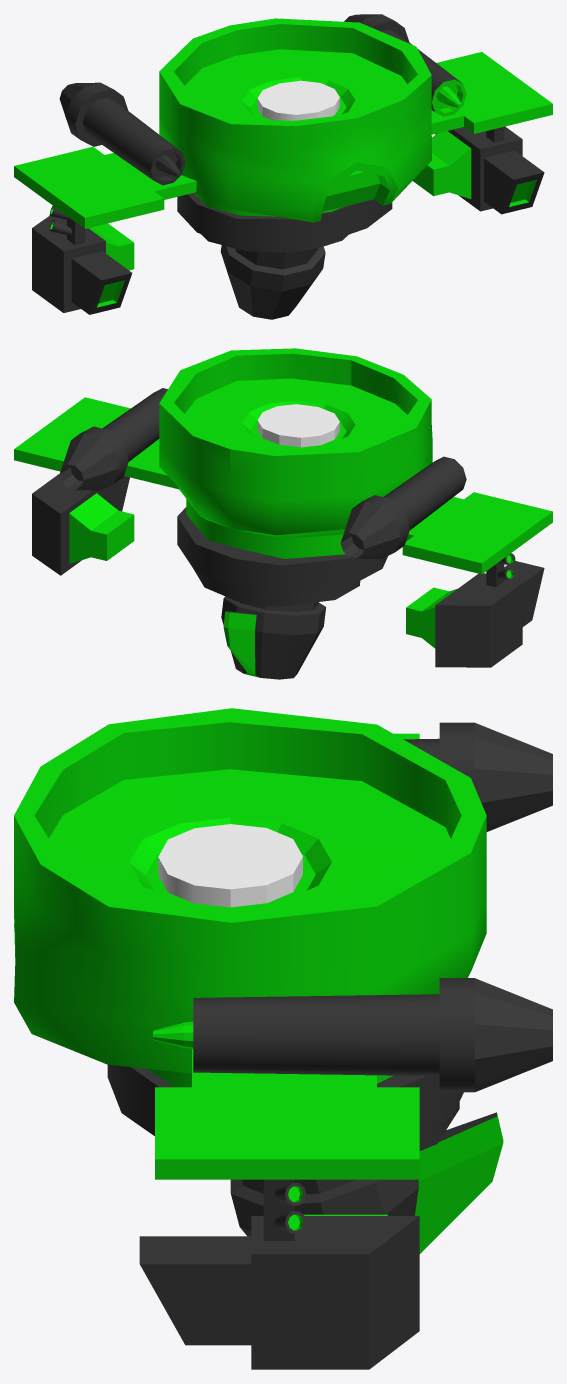
File: robot03_body.fbx
3 views of the same model, one above another, from view 1: azimuth 30°, elevation 25°; view 2: azimuth 150°, elevation 25°; view 3: azimuth 270°, elevation 25° (orthographic). The views are drawn at different scales.
Parts seen in each view (by area): view 1: robot03_body; view 2: robot03_body; view 3: robot03_body.
Part boxes in pixels (box(x1,y1,x2,y2)): robot03_body: box(14, 14, 552, 319); robot03_body: box(14, 348, 552, 679); robot03_body: box(14, 708, 552, 1369).
Size of the model in its own units: 118 by 61.62 by 63.32.
